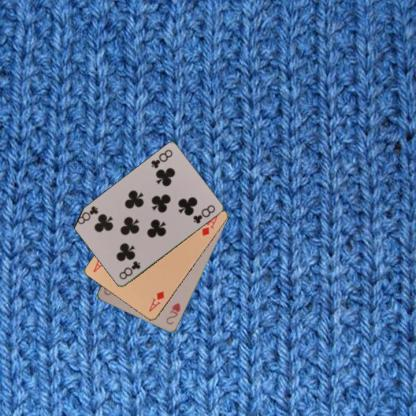2h: (164, 300, 182, 326)
8c: (116, 258, 142, 281), (148, 147, 174, 170)
Ad: (146, 288, 165, 313)
